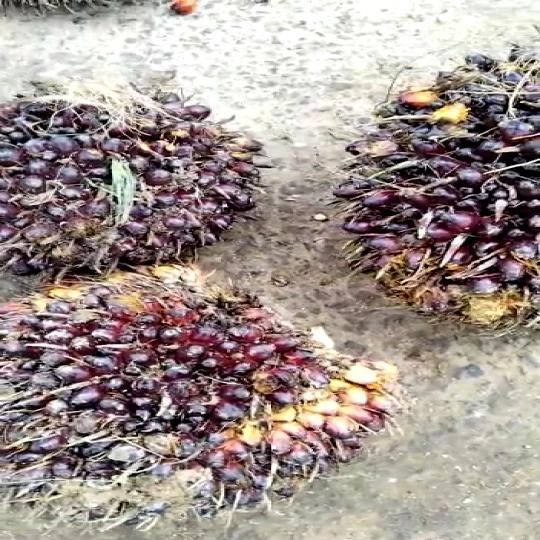kurang masak: (0, 280, 399, 516), (344, 37, 540, 342), (0, 76, 279, 290)
